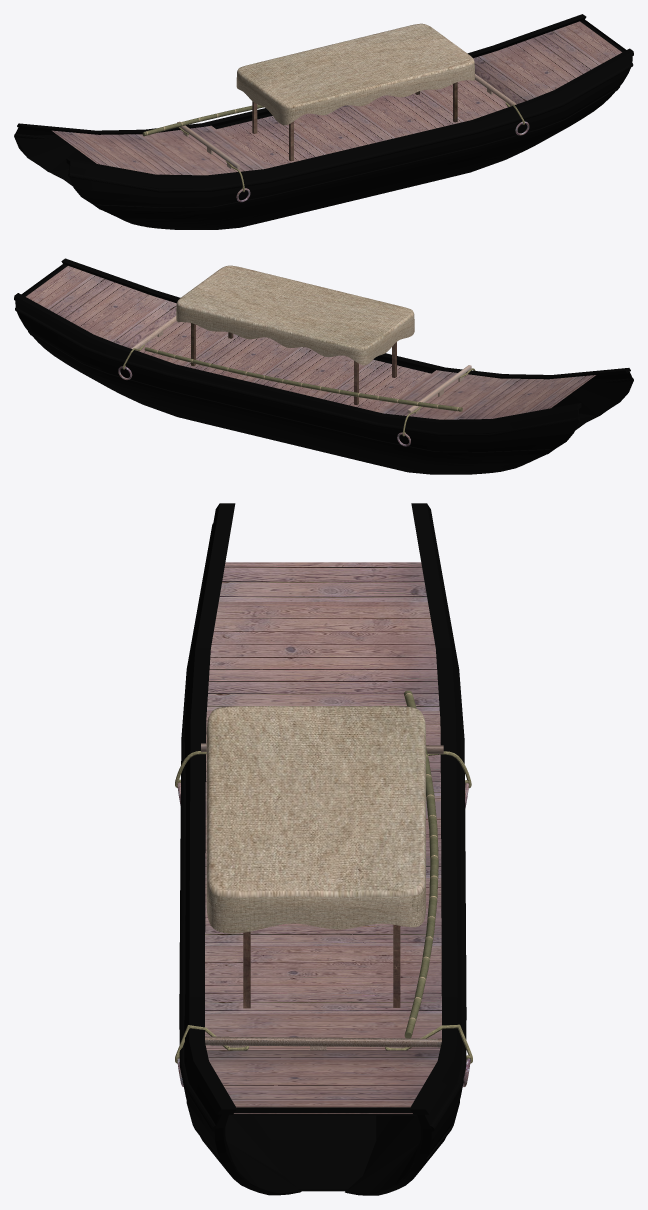
3 renders of one model, top to bottom at view 1: azimuth 30°, elevation 25°; view 2: azimuth 150°, elevation 25°; view 3: azimuth 270°, elevation 25°, orthographic. The views are drawn at different scales.
Parts seen in each view (by area): view 1: Object371, Line69, Box03, Object359, Rectangle98, Cylinder103; view 2: Object371, Line69, Box03, Cylinder103, Object359, Rectangle98; view 3: Line69, Object371, Box03, Object359, Cylinder103, Rectangle98, Line70.
Boxes of the visible parts, bbox=[...] form: Object371: bbox=[14, 14, 633, 229]; Line69: bbox=[52, 21, 621, 175]; Box03: bbox=[236, 23, 474, 125]; Object359: bbox=[177, 74, 516, 169]; Rectangle98: bbox=[252, 82, 457, 161]; Cylinder103: bbox=[142, 104, 263, 136]; Object371: bbox=[14, 258, 633, 474]; Line69: bbox=[26, 266, 595, 419]; Box03: bbox=[176, 265, 414, 365]; Cylinder103: bbox=[144, 347, 462, 411]; Object359: bbox=[131, 316, 471, 413]; Rectangle98: bbox=[191, 323, 396, 404]; Line69: bbox=[205, 562, 441, 1113]; Object371: bbox=[179, 503, 466, 1195]; Box03: bbox=[206, 706, 425, 933]; Object359: bbox=[201, 743, 443, 1050]; Cylinder103: bbox=[404, 690, 438, 1038]; Rectangle98: bbox=[243, 924, 400, 1008]; Line70: bbox=[175, 751, 472, 1063].
Size of the model in its own units: 18.12 by 4.13 by 3.73.
Materials: 8 (7 with a texture image).
